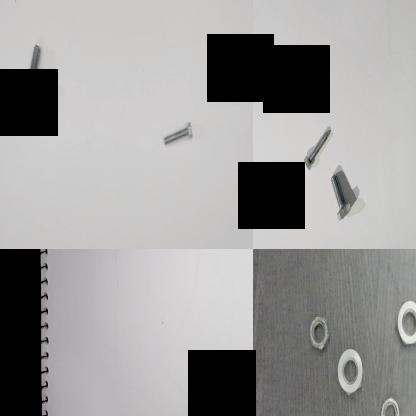Bolts: (302, 122, 330, 175), (325, 166, 351, 220), (22, 34, 42, 101), (158, 119, 197, 146)
NUTS: (333, 343, 367, 399), (304, 306, 333, 356), (393, 295, 416, 349), (378, 395, 402, 416)
